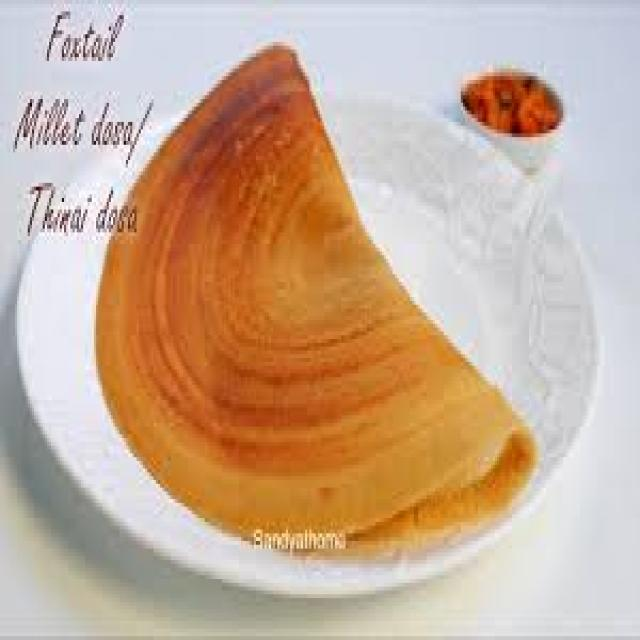DOSA: (94, 47, 540, 550)
